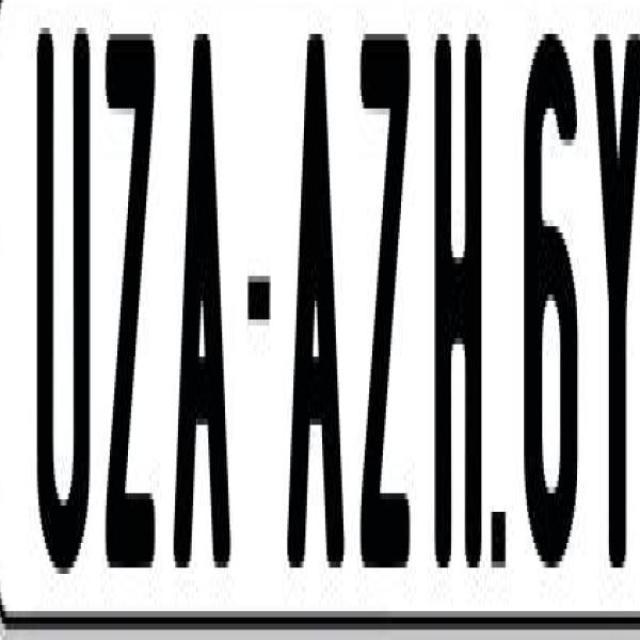license-plate: (10, 16, 640, 599)
